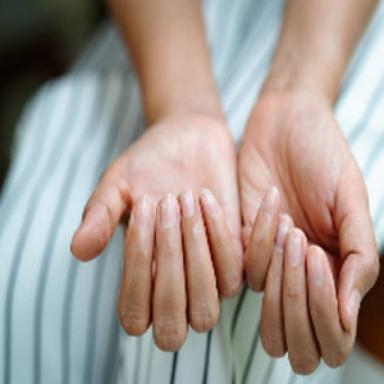normal skin: (73, 0, 378, 374)
